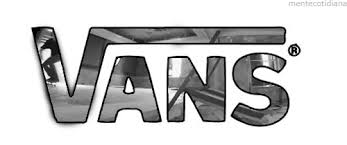vans: (30, 26, 289, 128)
